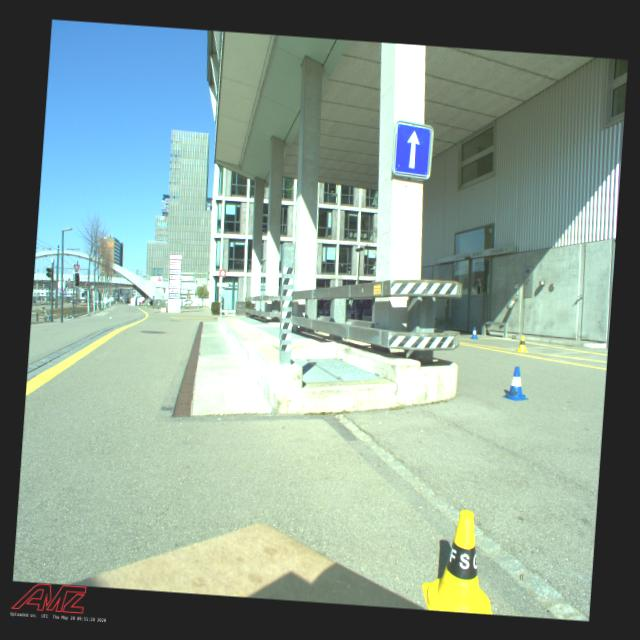blue_cone: (502, 366, 530, 402), (469, 326, 478, 339)
yellow_cone: (420, 508, 500, 614), (516, 335, 528, 352)
